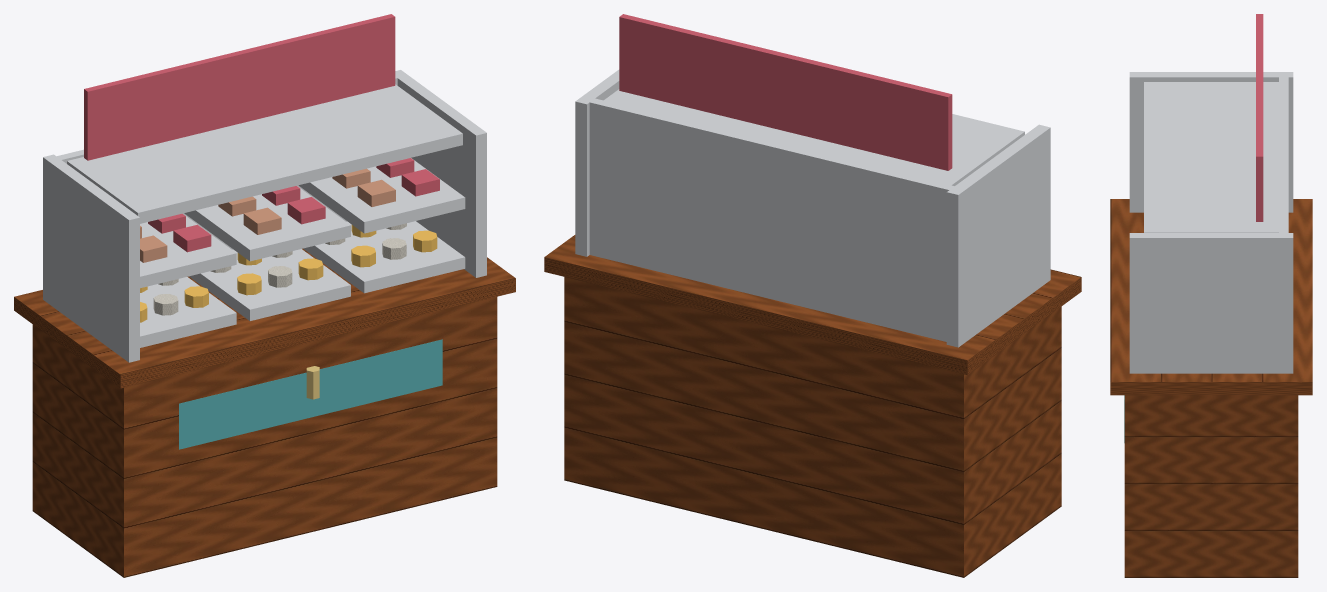
The model's file is indian-bazaar-street-and-temple-sweet-counter-3a98de40.glb.
3 renders of one model, left to right at view 1: azimuth 30°, elevation 25°; view 2: azimuth 150°, elevation 25°; view 3: azimuth 270°, elevation 25°, orthographic. The views are drawn at different scales.
Visible parts, largest first — view 1: sweet-counter-timber, sweet-counter-steel, sweet-counter-crimson, drawer/teal, sweet-counter-terracotta, sweet-counter-saffron, sweet-counter-plaster; view 2: sweet-counter-timber, sweet-counter-steel, sweet-counter-crimson; view 3: sweet-counter-steel, sweet-counter-timber, sweet-counter-crimson.
Part boxes in pixels (x1,y1,x2,y2): sweet-counter-timber: (14,248,515,577); sweet-counter-steel: (43,70,486,362); sweet-counter-crimson: (84,14,439,252); drawer/teal: (179,339,442,449); sweet-counter-terracotta: (140,168,395,262); sweet-counter-saffron: (140,225,437,322); sweet-counter-plaster: (153,223,406,315); sweet-counter-timber: (544,235,1081,577); sweet-counter-steel: (575,69,1050,347); sweet-counter-crimson: (619,14,952,170); sweet-counter-steel: (1129,72,1293,373); sweet-counter-timber: (1110,199,1312,577); sweet-counter-crimson: (1256,14,1263,221).
Size of the model in its own units: 1.8 by 1.86 by 0.8399.
Materials: 8 (2 with a texture image).
